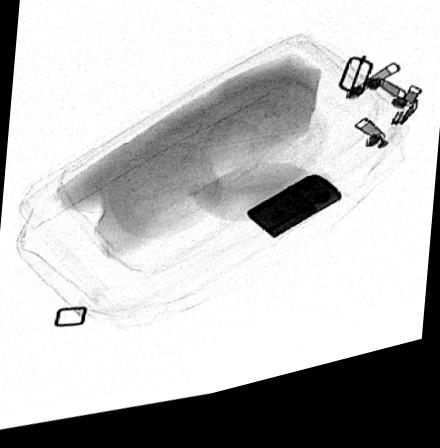Lighter: (245, 189, 342, 253)
